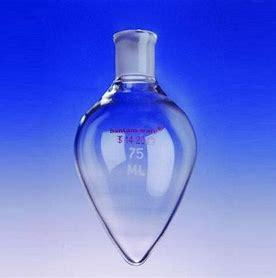Pear shaped flask: (71, 19, 199, 269)
